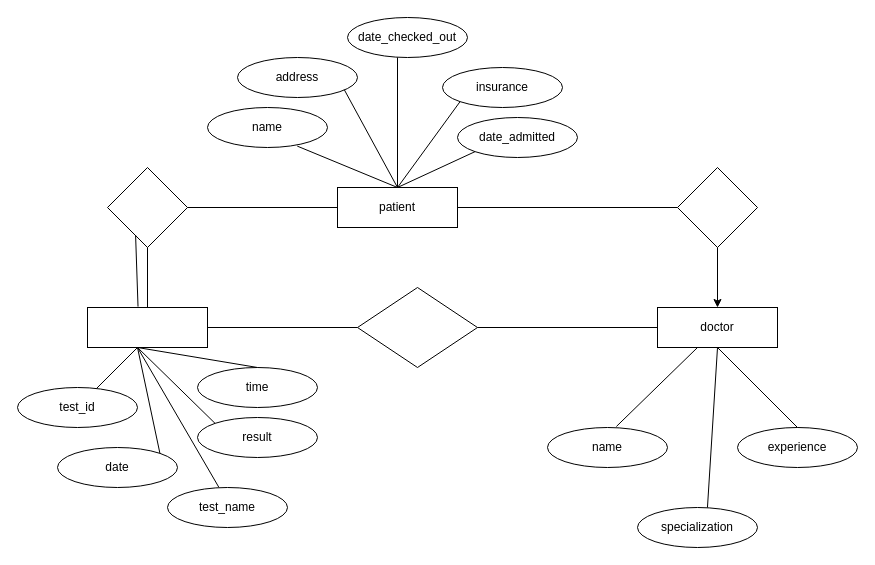
The diagram is 875 pixels wide and 565 high, and some of its shapes have lost their labels. Here are the shapes that lost their labels. From the top down, the box of each, then its label:
(106, 166, 188, 248): test_log
(676, 166, 758, 248): Dr_patient
(86, 306, 208, 348): Test
(356, 286, 478, 368): performed_by
